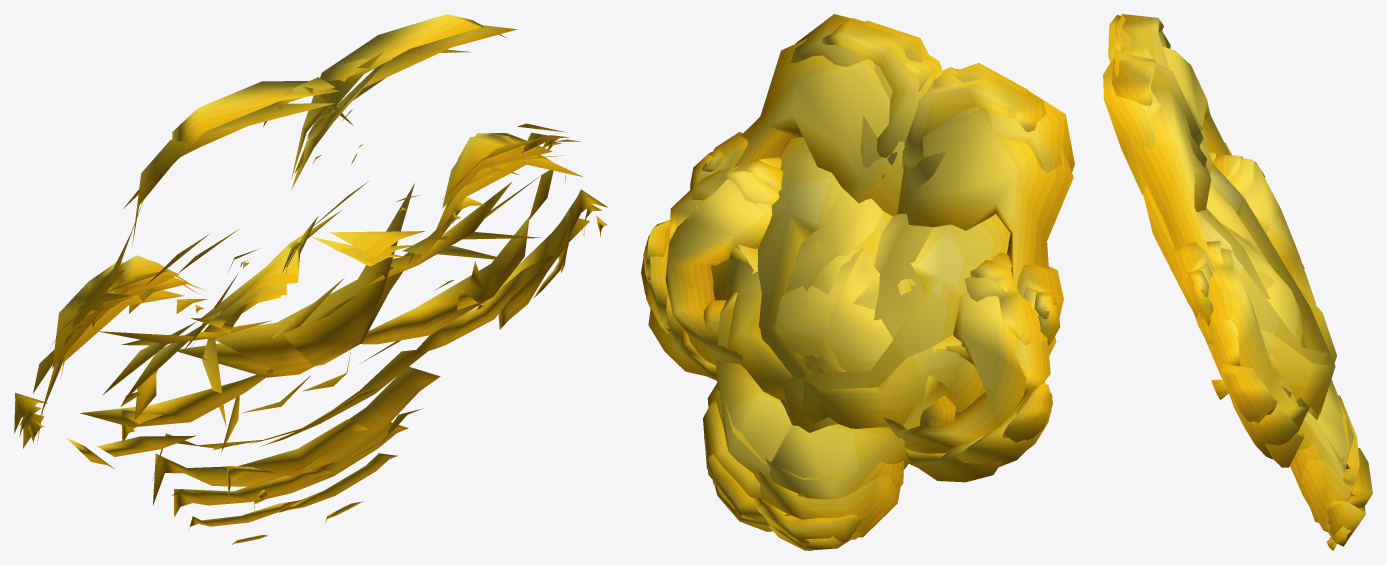
The model's file is ColorBoardTeleport.glb.
The picture shows the model from 3 angles, left to right: view 1: azimuth 30°, elevation 25°; view 2: azimuth 150°, elevation 25°; view 3: azimuth 270°, elevation 25°; orthographic projection. The views are drawn at different scales.
Parts seen in each view (by area): view 1: poof06 (×2), poof04 (×2), poof03 (×2), poof05 (×2), poof08 (×2), poof02 (×2), poof09 (×2), poof01 (×2), poof07 (×2); view 2: poof04 (×2), poof03 (×2), poof06 (×2), poof05 (×2), poof01 (×2), poof08 (×2), poof02 (×2), poof07 (×2), poof09; view 3: poof04 (×2), poof06 (×2), poof03 (×2), poof05 (×2), poof08 (×2), poof01 (×2), poof02 (×2), poof07 (×2).
Part boxes in pixels (bbox=[...]): poof06 (×2): bbox=[23, 14, 589, 505]; poof04 (×2): bbox=[40, 49, 583, 452]; poof03 (×2): bbox=[102, 183, 541, 395]; poof05 (×2): bbox=[33, 25, 570, 480]; poof08 (×2): bbox=[14, 59, 607, 517]; poof02 (×2): bbox=[124, 181, 512, 400]; poof09 (×2): bbox=[19, 142, 601, 529]; poof01 (×2): bbox=[182, 210, 423, 425]; poof07 (×2): bbox=[19, 52, 580, 495]; poof04 (×2): bbox=[665, 38, 1073, 499]; poof03 (×2): bbox=[710, 137, 1010, 432]; poof06 (×2): bbox=[646, 18, 1057, 537]; poof05 (×2): bbox=[648, 14, 1074, 490]; poof01 (×2): bbox=[774, 226, 915, 371]; poof08 (×2): bbox=[643, 56, 1056, 547]; poof02 (×2): bbox=[786, 189, 932, 373]; poof07 (×2): bbox=[641, 20, 1060, 539]; poof09: bbox=[769, 524, 850, 550]; poof04 (×2): bbox=[1126, 47, 1354, 479]; poof06 (×2): bbox=[1112, 14, 1359, 531]; poof03 (×2): bbox=[1143, 163, 1336, 419]; poof05 (×2): bbox=[1103, 15, 1348, 522]; poof08 (×2): bbox=[1120, 46, 1372, 541]; poof01 (×2): bbox=[1219, 221, 1304, 344]; poof02 (×2): bbox=[1198, 186, 1307, 348]; poof07 (×2): bbox=[1114, 14, 1330, 532].
Size of the model in its own units: 14.63 by 14.77 by 7.56.
Materials: 1 (1 with a texture image).
